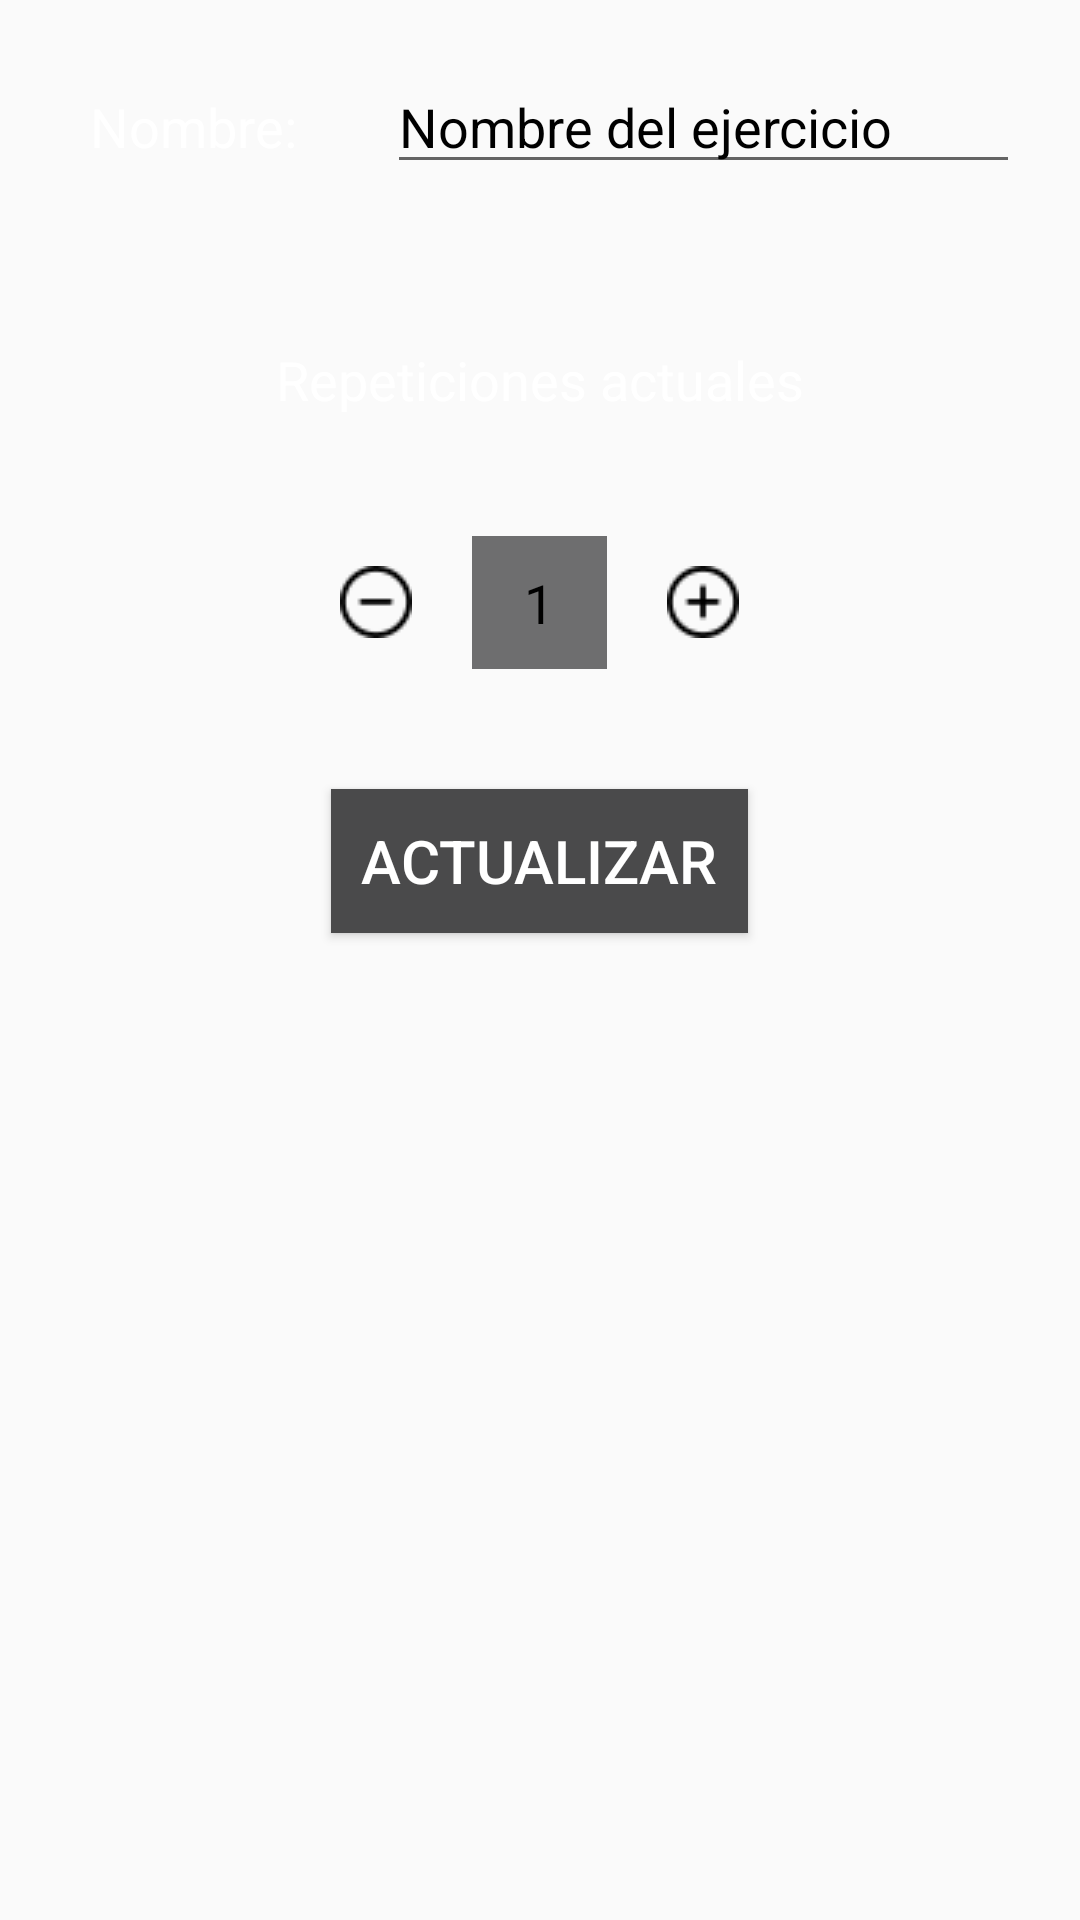

Named icons in this screenshot (1080x1920) and their bounding boxes, box(x1, y1, x2, y2):
less: box(340, 566, 412, 638)
plus: box(667, 566, 739, 638)
